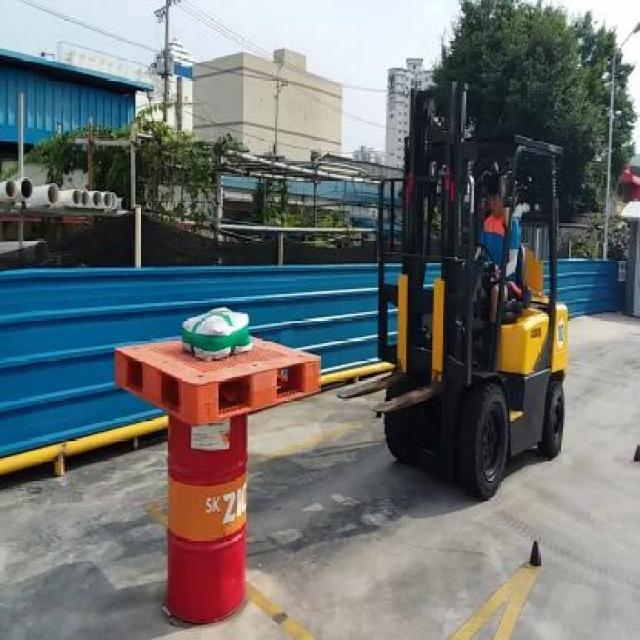forklift: (370, 135, 576, 500)
